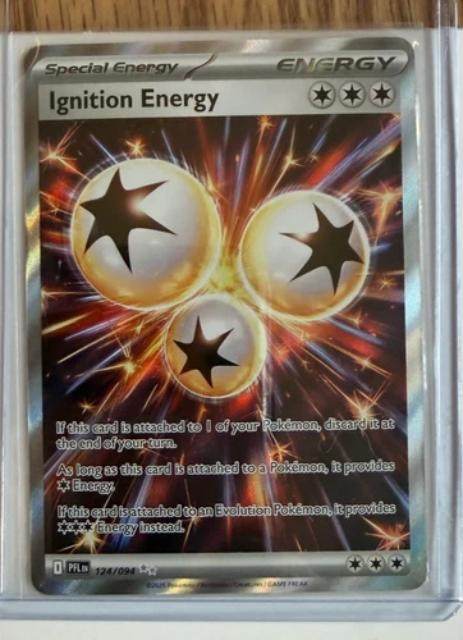Card: (18, 32, 433, 599)
Name: (36, 82, 228, 119)
